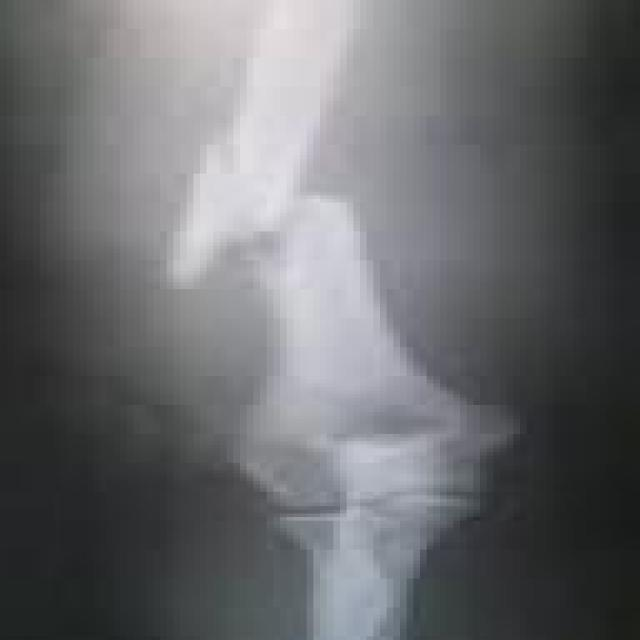Broken: (225, 210, 519, 461), (162, 2, 362, 283)
